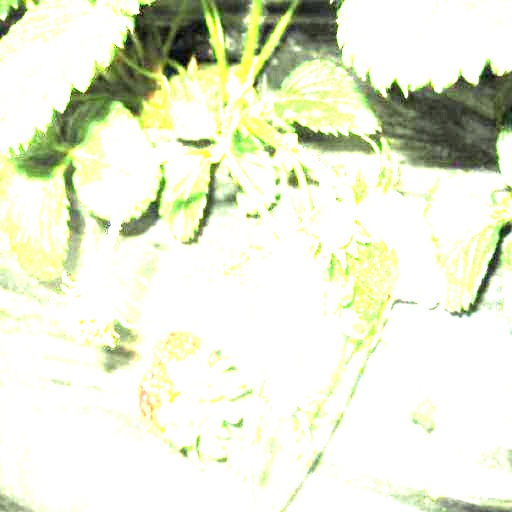Powdery Mildew Fruit: (322, 182, 443, 311), (243, 222, 325, 357), (272, 271, 343, 417)
